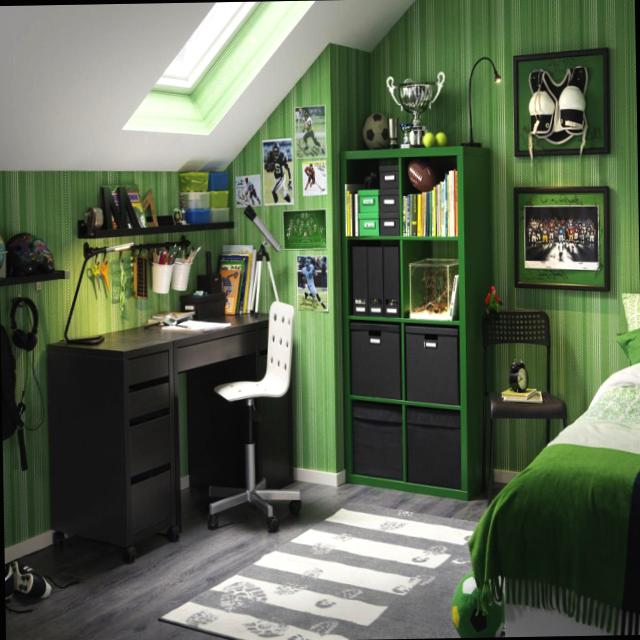footpath: (39, 545, 451, 640)
obstacle: (453, 367, 640, 637), (34, 316, 176, 555), (200, 297, 306, 538)
